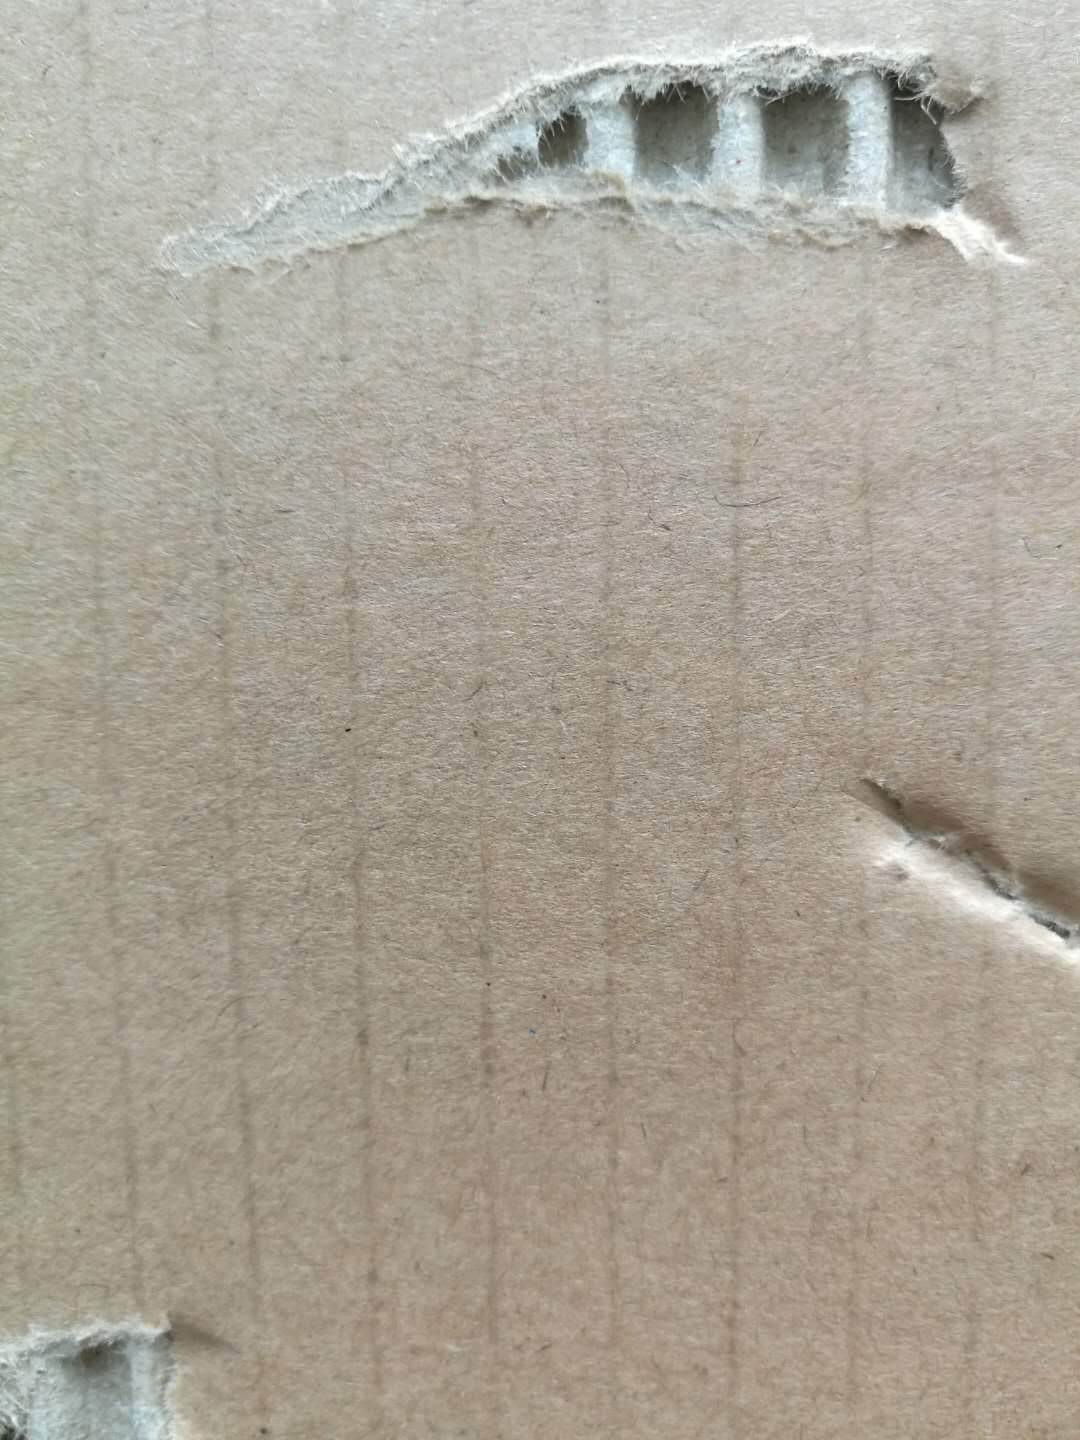defect: (134, 19, 1058, 350), (812, 710, 1080, 1039), (1, 1242, 265, 1440)
